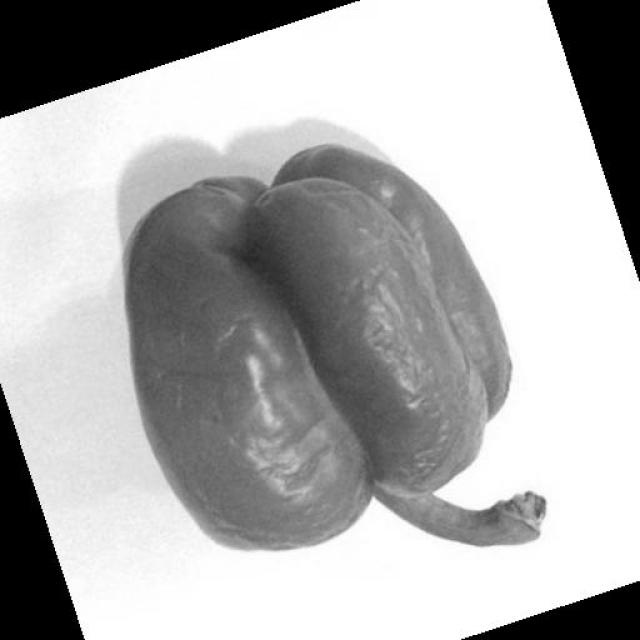Fresh_Capsicum: (160, 151, 559, 528)
